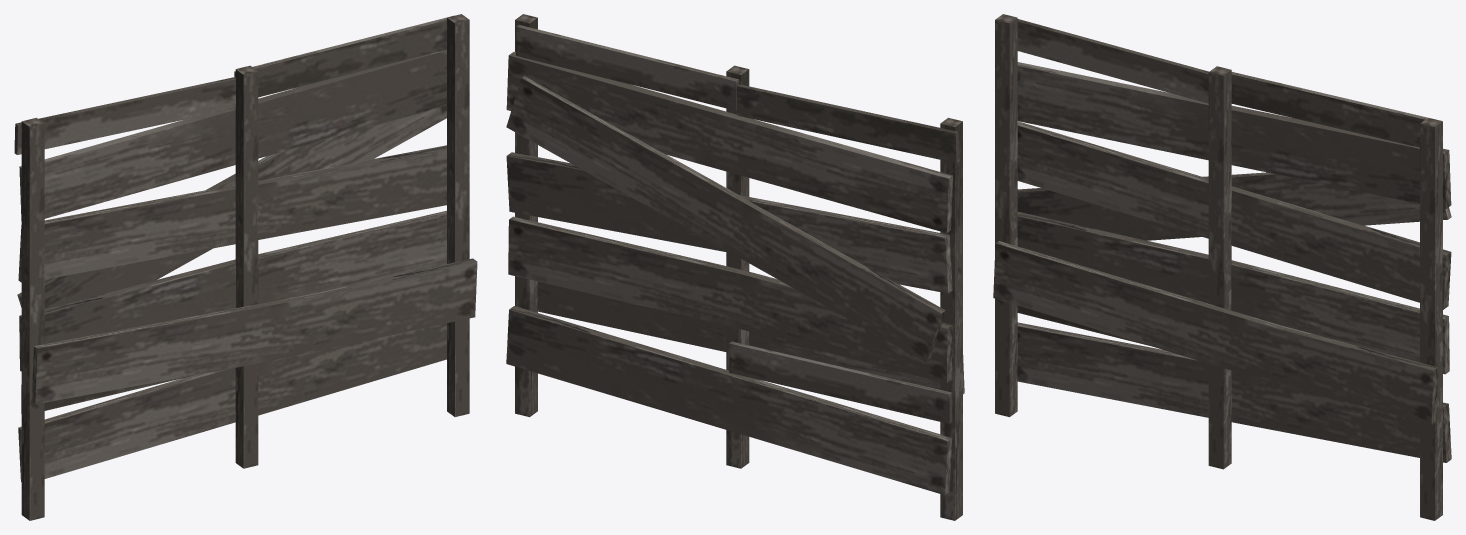
The model's file is Stage_Obj014.fbx.
The picture shows the model from 3 angles, left to right: view 1: azimuth 30°, elevation 25°; view 2: azimuth 150°, elevation 25°; view 3: azimuth 330°, elevation 25°; orthographic projection.
Parts seen in each view (by area): view 1: SM_SampleGame_Fence006; view 2: SM_SampleGame_Fence006; view 3: SM_SampleGame_Fence006.
Part boxes in pixels (x1,y1,x2,y2): SM_SampleGame_Fence006: (14, 14, 477, 520); SM_SampleGame_Fence006: (506, 14, 964, 520); SM_SampleGame_Fence006: (993, 14, 1451, 520).
Bounding box in the file's own units: 158 × 132 × 13.04.
Materials: 1 (1 with a texture image).
